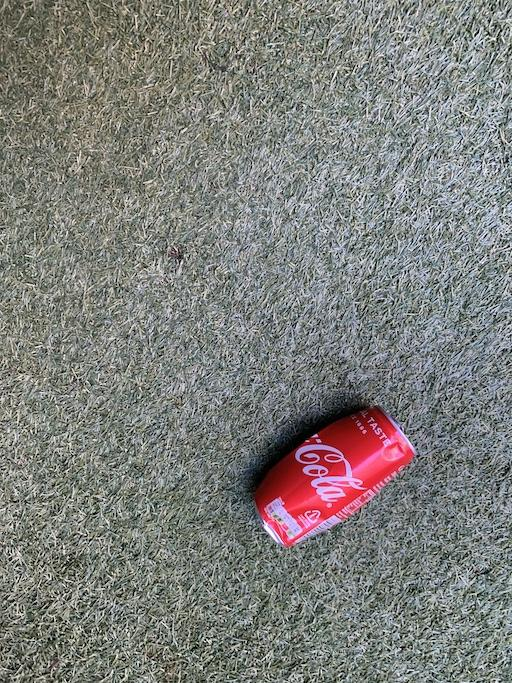Aluminum can: (240, 394, 448, 552)
